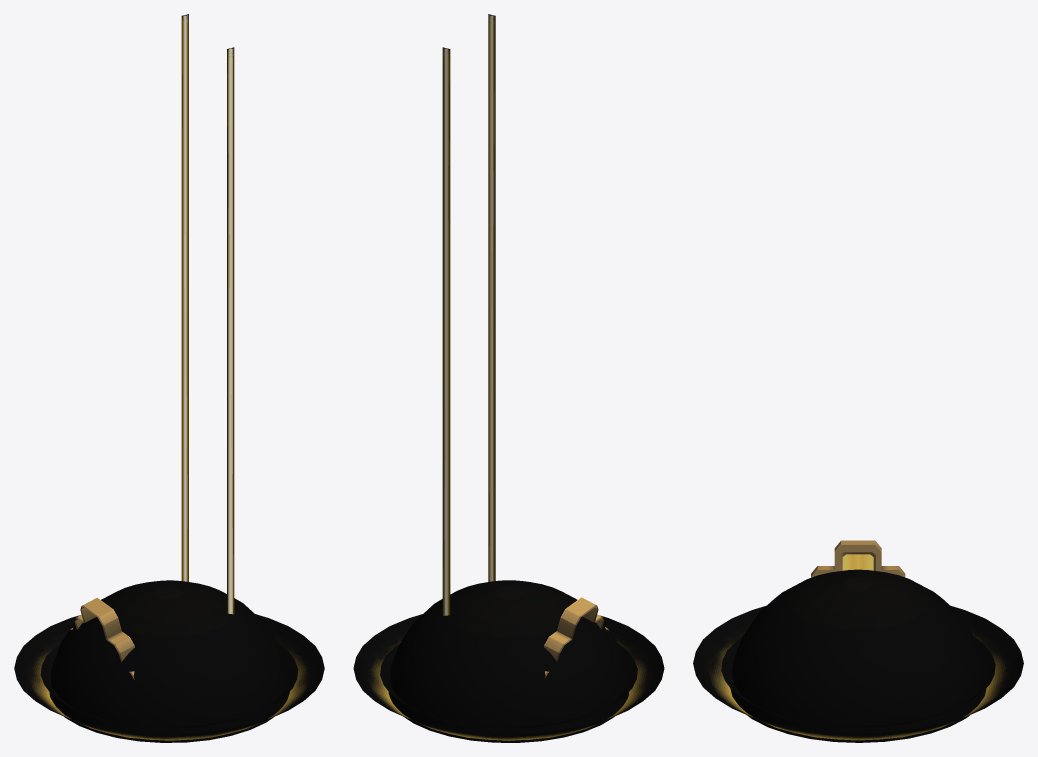
Rendered from throne1.fbx.
3 views of the same model, side by side, from view 1: azimuth 30°, elevation 25°; view 2: azimuth 150°, elevation 25°; view 3: azimuth 270°, elevation 25° (orthographic). The views are drawn at different scales.
Visible parts, largest first — view 1: barrier, power_wave1 (×2), power_laser_R, power_laser_L, throne1; view 2: barrier, power_wave1 (×2), power_laser_R, power_laser_L, throne1; view 3: barrier, power_wave1 (×2), throne1.
Part boxes in pixels (x1,y1,x2,y2): barrier: (49, 580, 289, 742); power_wave1 (×2): (14, 614, 324, 740); power_laser_R: (181, 14, 188, 581); power_laser_L: (227, 47, 234, 614); throne1: (70, 597, 134, 679); barrier: (388, 580, 628, 742); power_wave1 (×2): (353, 614, 664, 740); power_laser_R: (442, 47, 450, 615); power_laser_L: (488, 14, 495, 581); throne1: (544, 597, 609, 677); barrier: (730, 569, 986, 742); power_wave1 (×2): (693, 605, 1023, 740); throne1: (811, 540, 905, 577).
Size of the model in its own units: 4.58 by 10.63 by 4.59.
7 materials, 7 textured.
